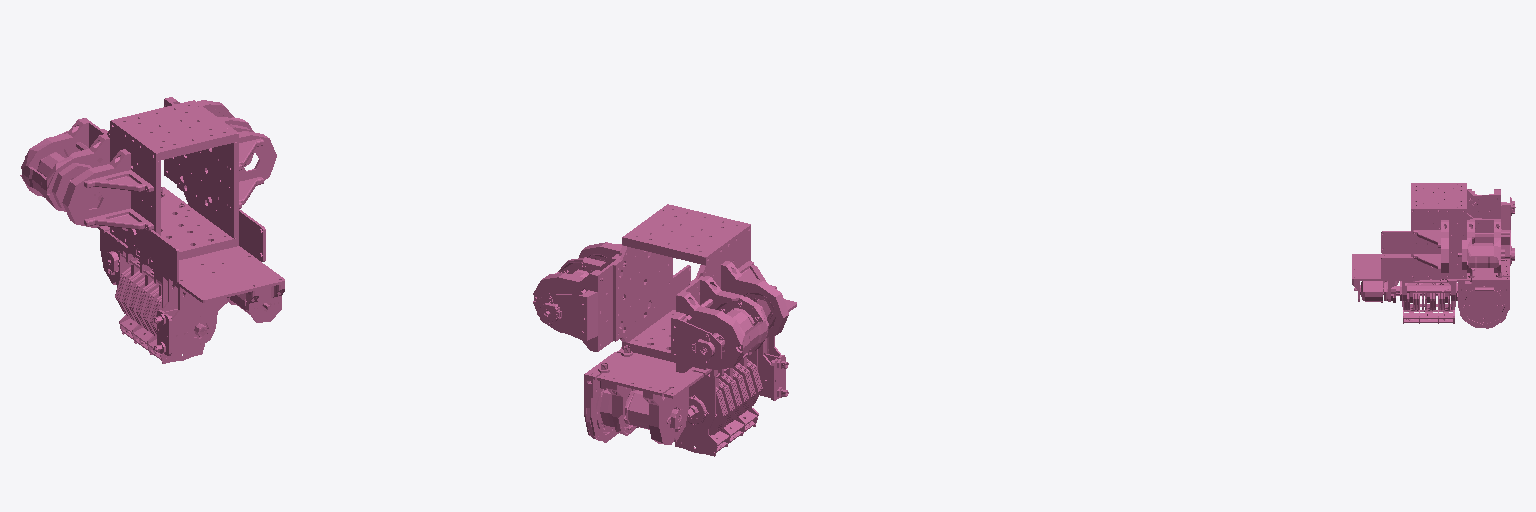
--- Facts derived from the render (not from the file) ---
3 views of the same robot in one strip: view 1: azimuth 30°, elevation 25°; view 2: azimuth 150°, elevation 25°; view 3: azimuth 270°, elevation 25° (orthographic).
Robot: dual_arm — 23 links, 22 joints (16 revolute, 6 fixed); root link map; default pose: all joints at 0.
Visible links, largest first — view 1: linear_rail_torso_base; view 2: linear_rail_torso_base; view 3: linear_rail_torso_base.
Boxes of the visible links, x1,y1,x2,y2 form: linear_rail_torso_base: [20, 97, 284, 363]; linear_rail_torso_base: [533, 204, 796, 456]; linear_rail_torso_base: [1352, 183, 1515, 328].
Bounding box of the posed robot: 400 × 1252 × 380 m (x, y, z).
Meshes: 18 distinct files referenced, 18 mesh visuals loaded (15 binary STL, 2 Collada DAE).

robot.urdf — dual_arm:
<?xml version="1.0" ?>
<!-- =================================================================================== -->
<!-- |    This document was autogenerated by xacro from [local-path]/moa/catkin_ws/src/moa_description/urdf/dual_arm.xacro | -->
<!-- |    EDITING THIS FILE BY HAND IS NOT RECOMMENDED                                 | -->
<!-- =================================================================================== -->
<robot name="dual_arm">
    <!-- <xacro:include filename="$(find moa_description)/urdf/right_hand.xacro"/>
    <xacro:include filename="$(find moa_description)/urdf/left_hand.xacro"/> -->
    <link name="map" />
    <!-- <link name="shoulder_bend2flex"> -->
    <link name="human/left_arm_mount" />
    <link name="human/left_arm_ref_frame">
        <visual>
            <geometry>
                <mesh filename="package://moa_description/mesh/visual_left/moa_shoulder_bend.stl" scale="0.001 0.001 0.001" />
            </geometry>
            <origin rpy="0 1.5707963267948966 0" xyz="0 0 0" />
        </visual>
        <collision>
            <geometry>
                <mesh filename="package://moa_description/mesh/visual_left/moa_shoulder_bend.stl" scale="0.001 0.001 0.001" />
            </geometry>
            <origin rpy="0 1.5707963267948966 0" xyz="0 0 0" />
        </collision>
        <inertial>
            <mass value="0.1" />
            <origin xyz="0 0 0" rpy="0 0 0" />
            <inertia ixx="0.03" iyy="0.03" izz="0.03" ixy="0.0" ixz="0.0" iyz="0.0" />
        </inertial>
    </link>
    <!-- <link name="shoulder_flex2abd"> -->
    <link name="human/left_arm_frame0">
        <visual>
            <geometry>
                <mesh filename="package://moa_description/mesh/visual_left/moa_shoulder_flex.stl" scale="0.001 0.001 0.001" />
            </geometry>
            <origin rpy="0 0 0" xyz="0 0 0" />
        </visual>
        <collision>
            <geometry>
                <mesh filename="package://moa_description/mesh/visual_left/moa_shoulder_flex.stl" scale="0.001 0.001 0.001" />
            </geometry>
            <origin rpy="0 0 0" xyz="0 0 0" />
        </collision>
        <inertial>
            <mass value="0.1" />
            <origin xyz="0 0 0" rpy="0 0 0" />
            <inertia ixx="0.03" iyy="0.03" izz="0.03" ixy="0.0" ixz="0.0" iyz="0.0" />
        </inertial>
    </link>
    <!-- <link name="shoulder_abd2rot"> -->
    <link name="human/left_arm_frame1">
        <visual>
            <geometry>
                <mesh filename="package://moa_description/mesh/visual_left/moa_shoulder_rot.stl" scale="0.001 0.001 0.001" />
            </geometry>
            <origin rpy="1.5707963267948966 0 0" xyz="0 0 0" />
        </visual>
        <collision>
            <geometry>
                <mesh filename="package://moa_description/mesh/visual_left/moa_shoulder_rot.stl" scale="0.001 0.001 0.001" />
            </geometry>
            <origin rpy="1.5707963267948966 0 0" xyz="0 0 0" />
        </collision>
        <inertial>
            <mass value="0.1" />
            <origin xyz="0 0 0" rpy="0 0 0" />
            <inertia ixx="0.03" iyy="0.03" izz="0.03" ixy="0.0" ixz="0.0" iyz="0.0" />
        </inertial>
    </link>
    <!-- <link name="shoulder_rot2elb"> -->
    <link name="human/left_arm_frame2">
        <visual>
            <geometry>
                <mesh filename="package://moa_description/mesh/visual_left/moa_elbow_base.stl" scale="0.001 0.001 0.001" />
            </geometry>
            <origin rpy="0 0 0" xyz="0 0 0" />
        </visual>
        <collision>
            <geometry>
                <mesh filename="package://moa_description/mesh/visual_left/moa_elbow_base.stl" scale="0.001 0.001 0.001" />
            </geometry>
            <origin rpy="0 0 0" xyz="0 0 0" />
        </collision>
        <inertial>
            <mass value="0.1" />
            <origin xyz="0 0 0" rpy="0 0 0" />
            <inertia ixx="0.03" iyy="0.03" izz="0.03" ixy="0.0" ixz="0.0" iyz="0.0" />
        </inertial>
    </link>
    <!-- <link name="elbow_flex2rot"> -->
    <link name="human/left_arm_frame3">
        <visual>
            <geometry>
                <mesh filename="package://moa_description/mesh/visual_left/moa_elbow_forearm.stl" scale="0.001 0.001 0.001" />
            </geometry>
            <origin rpy="0 0 0" xyz="0 0 0" />
        </visual>
        <collision>
            <geometry>
                <mesh filename="package://moa_description/mesh/visual_left/moa_elbow_forearm.stl" scale="0.001 0.001 0.001" />
            </geometry>
            <origin rpy="0 0 0" xyz="0 0 0" />
        </collision>
        <inertial>
            <mass value="0.1" />
            <origin xyz="0 0 0" rpy="0 0 0" />
            <inertia ixx="0.03" iyy="0.03" izz="0.03" ixy="0.0" ixz="0.0" iyz="0.0" />
        </inertial>
    </link>
    <!-- <link name="wrist_rot2flex"> -->
    <link name="human/left_arm_frame4">
        <visual>
            <geometry>
                <mesh filename="package://moa_description/mesh/visual_left/moa_forearm_base.stl" scale="0.001 0.001 0.001" />
            </geometry>
            <origin rpy="0 0 0" xyz="0 0 0" />
        </visual>
        <collision>
            <geometry>
                <mesh filename="package://moa_description/mesh/visual_left/moa_forearm_base.stl" scale="0.001 0.001 0.001" />
            </geometry>
            <origin rpy="0 0 0" xyz="0 0 0" />
        </collision>
        <inertial>
            <mass value="0.1" />
            <origin xyz="0 0 0" rpy="0 0 0" />
            <inertia ixx="0.03" iyy="0.03" izz="0.03" ixy="0.0" ixz="0.0" iyz="0.0" />
        </inertial>
    </link>
    <!-- <link name="wrist_flex2piv"> -->
    <link name="human/left_arm_frame5">
        <visual>
            <geometry>
                <mesh filename="package://moa_description/mesh/visual_left/moa_wrist_base.stl" scale="0.001 0.001 0.001" />
            </geometry>
            <origin rpy="0 0 0" xyz="0 0 0" />
        </visual>
        <collision>
            <geometry>
                <mesh filename="package://moa_description/mesh/visual_left/moa_wrist_base.stl" scale="0.001 0.001 0.001" />
            </geometry>
            <origin rpy="0 0 0" xyz="0 0 0" />
        </collision>
        <inertial>
            <mass value="0.1" />
            <origin xyz="0 0 0" rpy="0 0 0" />
            <inertia ixx="0.03" iyy="0.03" izz="0.03" ixy="0.0" ixz="0.0" iyz="0.0" />
        </inertial>
    </link>
    <!-- <link name="wrist_piv2hand"> -->
    <link name="human/left_arm_frame6">
        <visual>
            <geometry>
                <mesh filename="package://moa_description/mesh/visual_left/moa_hand_piv.stl" scale="0.001 0.001 0.001" />
            </geometry>
            <origin rpy="0 0 3.141592653589793" xyz="0 0 0" />
        </visual>
        <collision>
            <geometry>
                <mesh filename="package://moa_description/mesh/visual_left/moa_hand_piv.stl" scale="0.001 0.001 0.001" />
            </geometry>
            <origin rpy="0 0 3.141592653589793" xyz="0 0 0" />
        </collision>
        <inertial>
            <mass value="0.1" />
            <origin xyz="0 0 0" rpy="0 0 0" />
            <inertia ixx="0.03" iyy="0.03" izz="0.03" ixy="0.0" ixz="0.0" iyz="0.0" />
        </inertial>
    </link>
    <!-- <link name="human/left_arm_frame1"/>
    <link name="human/left_arm_frame2"/>

    <link name="human/left_arm_frame3"> -->
    <!-- <link name="human/left_hand_root"/> -->
    <!-- <link name="human/left_arm_frame4"/>
    <link name="human/left_arm_frame5"/>
    <link name="human/left_arm_frame6"/> -->
    <link name="human/left_arm_frame7" />
    <!-- <link name="human/left_index_finger_mcp"/>
    <link name="human/left_pinky_mcp"/>
    <link name="human/left_thumb">
      <visual>
        <origin rpy="0 0 0" xyz="0 0 0"/>
        <geometry>
          <box size="0.03 0.03 0.08"/>
        </geometry>
      </visual>
    </link> -->
    <!-- Joints -->
    <joint name="left_shoulder_ref_frame_joint" type="revolute">
        <origin rpy="0 -1.5707963267948966 0" xyz="0.15 0 0" />
        <parent link="human/left_arm_mount" />
        <child link="human/left_arm_ref_frame" />
        <limit effort="1" lower="-1.57079632679" upper="1.57079632679" velocity="1" />
    </joint>
    <!-- SHOULDER : spherical -->
    <!-- Let joint_X be the joint this transmission element is being added to: -->
    <joint name="left_shoulder_1_flex_exte" type="revolute">
        <origin rpy="0 1.5707963267948966 0" xyz="0.046 0 -0.18" />
        <!--origin rpy="0 ${pi/2} 0" xyz="0.18 0 0.046"/-->
        <axis xyz="-1 0 0" />
        <parent link="human/left_arm_ref_frame" />
        <child link="human/left_arm_frame0" />
        <limit effort="1" lower="-1.57079632679" upper="2.35619449019" velocity="1" />
    </joint>
    <joint name="left_shoulder_2_abdu_addu" type="revolute">
        <origin rpy="-1.5707963267948966 0 0" xyz="0.09 0 -0.05" />
        <axis xyz="0 0 -1" />
        <parent link="human/left_arm_frame0" />
        <child link="human/left_arm_frame1" />
        <limit effort="1" lower="-1.57079632679" upper="1.57079632679" velocity="1" />
    </joint>
    <joint name="left_shoulder_3_rotation" type="revolute">
        <origin rpy="1.5707963267948966 0 0" xyz="0 0.16 0" />
        <axis xyz="0 0 1" />
        <parent link="human/left_arm_frame1" />
        <child link="human/left_arm_frame2" />
        <limit effort="1" lower="-1.57079632679" upper="1.57079632679" velocity="1" />
    </joint>
    <!-- END SHOULDER -->
    <joint name="left_elbow_4_flex_exte" type="revolute">
        <origin rpy="0 0 0" xyz="0 -0.03 -0.228" />
        <axis xyz="-1 0 0" />
        <parent link="human/left_arm_frame2" />
        <child link="human/left_arm_frame3" />
        <limit effort="1" lower="0.0" upper="2.7925268" velocity="1" />
    </joint>
    <joint name="left_wrist_5_abdu_addu" type="revolute">
        <origin rpy="0 0 0" xyz="0 0 0" />
        <axis xyz="1 0 0" />
        <parent link="human/left_arm_frame5" />
        <child link="human/left_arm_frame6" />
        <limit effort="1" lower="-0.78539816339" upper="0.78539816339" velocity="1" />
    </joint>
    <joint name="left_wrist_6_flex_exte" type="revolute">
        <origin rpy="0 0 0" xyz="0 -0.003 -0.26389" />
        <axis xyz="0 1 0" />
        <parent link="human/left_arm_frame4" />
        <child link="human/left_arm_frame5" />
        <limit effort="1" lower="-1.57079632679" upper="1.57079632679" velocity="1" />
    </joint>
    <joint name="left_7_prona_supin" type="revolute">
        <origin rpy="0 0 3.141592653589793" xyz="0 0.03 -0.11951" />
        <axis xyz="0 0 1" />
        <parent link="human/left_arm_frame3" />
        <child link="human/left_arm_frame4" />
        <limit effort="1" lower="-1.5707963267948966" upper="1.5707963267948966" velocity="1" />
    </joint>
    <joint name="left_wrist_hand" type="fixed">
        <origin rpy="3.141592653589793 0 1.5707963267948966" xyz="0 0 0" />
        <parent link="human/left_arm_frame6" />
        <child link="human/left_arm_frame7" />
    </joint>
    <transmission name="left_shoulder_ref_frame_joint_trans">
        <type>transmission_interface/SimpleTransmission</type>
        <joint name="left_shoulder_ref_frame_joint">
            <hardwareInterface>hardware_interface/PositionJointInterface</hardwareInterface>
        </joint>
        <actuator name="left_shoulder_ref_frame_joint_motor">
            <mechanicalReduction>1</mechanicalReduction>
            <hardwareInterface>hardware_interface/PositionJointInterface</hardwareInterface>
        </actuator>
    </transmission>
    <transmission name="left_shoulder_1_flex_exte_trans">
        <type>transmission_interface/SimpleTransmission</type>
        <joint name="left_shoulder_1_flex_exte">
            <hardwareInterface>hardware_interface/PositionJointInterface</hardwareInterface>
        </joint>
        <actuator name="left_shoulder_1_flex_exte_motor">
            <mechanicalReduction>1</mechanicalReduction>
            <hardwareInterface>hardware_interface/PositionJointInterface</hardwareInterface>
        </actuator>
    </transmission>
    <transmission name="left_shoulder_2_abdu_addu_trans">
        <type>transmission_interface/SimpleTransmission</type>
        <joint name="left_shoulder_2_abdu_addu">
            <hardwareInterface>hardware_interface/PositionJointInterface</hardwareInterface>
        </joint>
        <actuator name="left_shoulder_2_abdu_addu_motor">
            <mechanicalReduction>1</mechanicalReduction>
            <hardwareInterface>hardware_interface/PositionJointInterface</hardwareInterface>
        </actuator>
    </transmission>
    <transmission name="left_shoulder_3_rotation_trans">
        <type>transmission_interface/SimpleTransmission</type>
        <joint name="left_shoulder_3_rotation">
            <hardwareInterface>hardware_interface/PositionJointInterface</hardwareInterface>
        </joint>
        <actuator name="left_shoulder_3_rotation_motor">
            <mechanicalReduction>1</mechanicalReduction>
            <hardwareInterface>hardware_interface/PositionJointInterface</hardwareInterface>
        </actuator>
    </transmission>
    <transmission name="left_elbow_4_flex_exte_trans">
        <type>transmission_interface/SimpleTransmission</type>
        <joint name="left_elbow_4_flex_exte">
            <hardwareInterface>hardware_interface/PositionJointInterface</hardwareInterface>
        </joint>
        <actuator name="left_elbow_4_flex_exte_motor">
            <mechanicalReduction>1</mechanicalReduction>
            <hardwareInterface>hardware_interface/PositionJointInterface</hardwareInterface>
        </actuator>
    </transmission>
    <transmission name="left_wrist_5_abdu_addu_trans">
        <type>transmission_interface/SimpleTransmission</type>
        <joint name="left_wrist_5_abdu_addu">
            <hardwareInterface>hardware_interface/PositionJointInterface</hardwareInterface>
        </joint>
        <actuator name="left_wrist_5_abdu_addu_motor">
            <mechanicalReduction>1</mechanicalReduction>
            <hardwareInterface>hardware_interface/PositionJointInterface</hardwareInterface>
        </actuator>
    </transmission>
    <transmission name="left_wrist_6_flex_exte_trans">
        <type>transmission_interface/SimpleTransmission</type>
        <joint name="left_wrist_6_flex_exte">
            <hardwareInterface>hardware_interface/PositionJointInterface</hardwareInterface>
        </joint>
        <actuator name="left_wrist_6_flex_exte_motor">
            <mechanicalReduction>1</mechanicalReduction>
            <hardwareInterface>hardware_interface/PositionJointInterface</hardwareInterface>
        </actuator>
    </transmission>
    <transmission name="left_7_prona_supin_trans">
        <type>transmission_interface/SimpleTransmission</type>
        <joint name="left_7_prona_supin">
            <hardwareInterface>hardware_interface/PositionJointInterface</hardwareInterface>
        </joint>
        <actuator name="left_7_prona_supin_motor">
            <mechanicalReduction>1</mechanicalReduction>
            <hardwareInterface>hardware_interface/PositionJointInterface</hardwareInterface>
        </actuator>
    </transmission>
    <link name="human/right_arm_ref_frame">
        <visual>
            <geometry>
                <mesh filename="package://moa_description/mesh/visual_right/moa_shoulder_bend.stl" scale="0.001 0.001 0.001" />
            </geometry>
            <origin rpy="0 -1.5707963267948966 0" xyz="0 0 0" />
        </visual>
        <collision>
            <geometry>
                <mesh filename="package://moa_description/mesh/visual_right/moa_shoulder_bend.stl" scale="0.001 0.001 0.001" />
            </geometry>
            <origin rpy="0 -1.5707963267948966 0" xyz="0 0 0" />
        </collision>
        <inertial>
            <mass value="0.1" />
            <origin xyz="0 0 0" rpy="0 0 0" />
            <inertia ixx="0.03" iyy="0.03" izz="0.03" ixy="0.0" ixz="0.0" iyz="0.0" />
        </inertial>
    </link>
    <!-- <link name="shoulder_flex2abd"> -->
    <link name="human/right_arm_frame0">
        <visual>
            <geometry>
                <mesh filename="package://moa_description/mesh/visual_right/moa_shoulder_flex.stl" scale="0.001 0.001 0.001" />
            </geometry>
            <origin rpy="0 0 0" xyz="0 0 0" />
        </visual>
        <collision>
            <geometry>
                <mesh filename="package://moa_description/mesh/visual_right/moa_shoulder_flex.stl" scale="0.001 0.001 0.001" />
            </geometry>
            <origin rpy="0 0 0" xyz="0 0 0" />
        </collision>
        <inertial>
            <mass value="0.1" />
            <origin xyz="0 0 0" rpy="0 0 0" />
            <inertia ixx="0.03" iyy="0.03" izz="0.03" ixy="0.0" ixz="0.0" iyz="0.0" />
        </inertial>
    </link>
    <!-- <link name="shoulder_abd2rot"> -->
    <link name="human/right_arm_frame1">
        <visual>
            <geometry>
                <mesh filename="package://moa_description/mesh/visual_right/moa_shoulder_rot.stl" scale="0.001 0.001 0.001" />
            </geometry>
            <origin rpy="1.5707963267948966 0 0" xyz="0 0 0" />
        </visual>
        <collision>
            <geometry>
                <mesh filename="package://moa_description/mesh/visual_right/moa_shoulder_rot.stl" scale="0.001 0.001 0.001" />
            </geometry>
            <origin rpy="1.5707963267948966 0 0" xyz="0 0 0" />
        </collision>
        <inertial>
            <mass value="0.1" />
            <origin xyz="0 0 0" rpy="0 0 0" />
            <inertia ixx="0.03" iyy="0.03" izz="0.03" ixy="0.0" ixz="0.0" iyz="0.0" />
        </inertial>
    </link>
    <!-- <link name="shoulder_rot2elb"> -->
    <link name="human/right_arm_frame2">
        <visual>
            <geometry>
                <mesh filename="package://moa_description/mesh/visual_right/moa_elbow_base.stl" scale="0.001 0.001 0.001" />
            </geometry>
            <origin rpy="0 0 0" xyz="0 0 0" />
        </visual>
        <collision>
            <geometry>
                <mesh filename="package://moa_description/mesh/visual_right/moa_elbow_base.stl" scale="0.001 0.001 0.001" />
            </geometry>
            <origin rpy="0 0 0" xyz="0 0 0" />
        </collision>
        <inertial>
            <mass value="0.1" />
            <origin xyz="0 0 0" rpy="0 0 0" />
            <inertia ixx="0.03" iyy="0.03" izz="0.03" ixy="0.0" ixz="0.0" iyz="0.0" />
        </inertial>
    </link>
    <!-- <link name="elbow_flex2rot"> -->
    <link name="human/right_arm_frame3">
        <visual>
            <geometry>
                <mesh filename="package://moa_description/mesh/visual_right/moa_elbow_forearm.stl" scale="0.001 0.001 0.001" />
            </geometry>
            <origin rpy="0 0 0" xyz="0 0 0" />
        </visual>
        <collision>
            <geometry>
                <mesh filename="package://moa_description/mesh/visual_right/moa_elbow_forearm.stl" scale="0.001 0.001 0.001" />
            </geometry>
            <origin rpy="0 0 0" xyz="0 0 0" />
        </collision>
        <inertial>
            <mass value="0.1" />
            <origin xyz="0 0 0" rpy="0 0 0" />
            <inertia ixx="0.03" iyy="0.03" izz="0.03" ixy="0.0" ixz="0.0" iyz="0.0" />
        </inertial>
    </link>
    <!-- <link name="wrist_rot2flex"> -->
    <link name="human/right_arm_frame4">
        <visual>
            <geometry>
                <mesh filename="package://moa_description/mesh/visual_right/moa_forearm_base.stl" scale="0.001 0.001 0.001" />
            </geometry>
            <origin rpy="0 0 0" xyz="0 0 0" />
        </visual>
        <collision>
            <geometry>
                <mesh filename="package://moa_description/mesh/visual_right/moa_forearm_base.stl" scale="0.001 0.001 0.001" />
            </geometry>
            <origin rpy="0 0 0" xyz="0 0 0" />
        </collision>
        <inertial>
            <mass value="0.1" />
            <origin xyz="0 0 0" rpy="0 0 0" />
            <inertia ixx="0.03" iyy="0.03" izz="0.03" ixy="0.0" ixz="0.0" iyz="0.0" />
        </inertial>
    </link>
    <!-- <link name="wrist_flex2piv"> -->
    <link name="human/right_arm_frame5">
        <visual>
            <geometry>
                <mesh filename="package://moa_description/mesh/visual_right/moa_wrist_base.stl" scale="0.001 0.001 0.001" />
            </geometry>
            <origin rpy="0 0 0" xyz="0 0 0" />
        </visual>
        <collision>
            <geometry>
                <mesh filename="package://moa_description/mesh/visual_right/moa_wrist_base.stl" scale="0.001 0.001 0.001" />
            </geometry>
            <origin rpy="0 0 0" xyz="0 0 0" />
        </collision>
        <inertial>
            <mass value="0.1" />
            <origin xyz="0 0 0" rpy="0 0 0" />
            <inertia ixx="0.03" iyy="0.03" izz="0.03" ixy="0.0" ixz="0.0" iyz="0.0" />
        </inertial>
    </link>
    <!-- <link name="wrist_piv2hand"> -->
    <link name="human/right_arm_frame6">
        <visual>
            <geometry>
                <mesh filename="package://moa_description/mesh/visual_right/moa_hand_piv.stl" scale="0.001 0.001 0.001" />
            </geometry>
            <origin rpy="0 0 3.141592653589793" xyz="0 0 0" />
        </visual>
        <collision>
            <geometry>
                <mesh filename="package://moa_description/mesh/visual_right/moa_hand_piv.stl" scale="0.001 0.001 0.001" />
            </geometry>
            <origin rpy="0 0 3.141592653589793" xyz="0 0 0" />
        </collision>
        <inertial>
            <mass value="0.1" />
            <origin xyz="0 0 0" rpy="0 0 0" />
            <inertia ixx="0.03" iyy="0.03" izz="0.03" ixy="0.0" ixz="0.0" iyz="0.0" />
        </inertial>
    </link>
    <link name="human/right_arm_mount" />
    <link name="human/right_arm_frame7" />
    <!-- <link name="human/right_index_finger_mcp"/>
    <link name="human/right_pinky_mcp"/>
    <link name="human/right_thumb">
      <visual>
        <origin rpy="0 0 0" xyz="0 0 0"/>
        <geometry>
          <box size="0.03 0.03 0.08"/>
        </geometry>
      </visual>
    </link> -->
    <!-- Joints -->
    <joint name="right_shoulder_ref_frame_joint" type="revolute">
        <origin rpy="0 1.5707963267948966 0" xyz="-0.15 0 0" />
        <parent link="human/right_arm_mount" />
        <child link="human/right_arm_ref_frame" />
        <limit effort="1" lower="-1.57079632679" upper="1.57079632679" velocity="1" />
    </joint>
    <!-- SHOULDER : spherical -->
    <joint name="right_shoulder_1_flex_exte" type="revolute">
        <origin rpy="0 -1.5707963267948966 0" xyz="-0.046 0 -0.18" />
        <axis xyz="-1 0 0" />
        <parent link="human/right_arm_ref_frame" />
        <child link="human/right_arm_frame0" />
        <limit effort="1" lower="-1.57079632679" upper="2.35619449019" velocity="1" />
    </joint>
    <joint name="right_shoulder_2_abdu_addu" type="revolute">
        <origin rpy="-1.5707963267948966 0 0" xyz="-0.09 0 -0.05" />
        <axis xyz="0 0 1" />
        <parent link="human/right_arm_frame0" />
        <child link="human/right_arm_frame1" />
        <limit effort="1" lower="-1.57079632679" upper="1.57079632679" velocity="1" />
    </joint>
    <joint name="right_shoulder_3_rotation" type="revolute">
        <origin rpy="1.5707963267948966 0 0" xyz="0 0.16 0" />
        <axis xyz="0 0 1" />
        <parent link="human/right_arm_frame1" />
        <child link="human/right_arm_frame2" />
        <limit effort="1" lower="-1.57079632679" upper="1.57079632679" velocity="1" />
    </joint>
    <!-- END SHOULDER -->
    <joint name="right_elbow_4_flex_exte" type="revolute">
        <origin rpy="0 0 0" xyz="0 -0.03 -0.228" />
        <axis xyz="-1 0 0" />
        <parent link="human/right_arm_frame2" />
        <child link="human/right_arm_frame3" />
        <limit effort="1" lower="0.0" upper="2.7925268" velocity="1" />
    </joint>
    <joint name="right_wrist_5_abdu_addu" type="revolute">
        <origin rpy="0 0 0" xyz="0 0 0" />
        <axis xyz="1 0 0" />
        <parent link="human/right_arm_frame5" />
        <child link="human/right_arm_frame6" />
        <limit effort="1" lower="-0.78539816339" upper="0.78539816339" velocity="1" />
    </joint>
    <joint name="right_wrist_6_flex_exte" type="revolute">
        <origin rpy="0 0 0" xyz="0 -0.003 -0.26389" />
        <axis xyz="0 1 0" />
        <parent link="human/right_arm_frame4" />
        <child link="human/right_arm_frame5" />
        <limit effort="1" lower="-1.57079632679" upper="1.57079632679" velocity="1" />
    </joint>
    <joint name="right_7_prona_supin" type="revolute">
        <origin rpy="0 0 3.141592653589793" xyz="0 0.03 -0.11951" />
        <axis xyz="0 0 -1" />
        <parent link="human/right_arm_frame3" />
        <child link="human/right_arm_frame4" />
        <limit effort="1" lower="-1.5707963267948966" upper="1.5707963267948966" velocity="1" />
    </joint>
    <joint name="right_wrist_hand" type="fixed">
        <origin rpy="3.141592653589793 0 1.5707963267948966" xyz="0 0 0" />
        <parent link="human/right_arm_frame6" />
        <child link="human/right_arm_frame7" />
    </joint>
    <!-- <joint name="right_hand_wirst_to_arm" type="fixed">
      <origin rpy="0 0 ${pi}" xyz="0 0 0"/>
      <parent link="human/right_arm_frame7"/>
      <child link="human/right_hand_mount"/>
    </joint> -->
    <transmission name="right_shoulder_ref_frame_joint_trans">
        <type>transmission_interface/SimpleTransmission</type>
        <joint name="right_shoulder_ref_frame_joint">
            <hardwareInterface>hardware_interface/PositionJointInterface</hardwareInterface>
        </joint>
        <actuator name="right_shoulder_ref_frame_joint_motor">
            <mechanicalReduction>1</mechanicalReduction>
            <hardwareInterface>hardware_interface/PositionJointInterface</hardwareInterface>
        </actuator>
    </transmission>
    <transmission name="right_shoulder_1_flex_exte_trans">
        <type>transmission_interface/SimpleTransmission</type>
        <joint name="right_shoulder_1_flex_exte">
            <hardwareInterface>hardware_interface/PositionJointInterface</hardwareInterface>
        </joint>
        <actuator name="right_shoulder_1_flex_exte_motor">
            <mechanicalReduction>1</mechanicalReduction>
            <hardwareInterface>hardware_interface/PositionJointInterface</hardwareInterface>
        </actuator>
    </transmission>
    <transmission name="right_shoulder_2_abdu_addu_trans">
        <type>transmission_interface/SimpleTransmission</type>
        <joint name="right_shoulder_2_abdu_addu">
            <hardwareInterface>hardware_interface/PositionJointInterface</hardwareInterface>
        </joint>
        <actuator name="right_shoulder_2_abdu_addu_motor">
            <mechanicalReduction>1</mechanicalReduction>
            <hardwareInterface>hardware_interface/PositionJointInterface</hardwareInterface>
        </actuator>
    </transmission>
    <transmission name="right_shoulder_3_rotation_trans">
        <type>transmission_interface/SimpleTransmission</type>
        <joint name="right_shoulder_3_rotation">
            <hardwareInterface>hardware_interface/PositionJointInterface</hardwareInterface>
        </joint>
        <actuator name="right_shoulder_3_rotation_motor">
            <mechanicalReduction>1</mechanicalReduction>
            <hardwareInterface>hardware_interface/PositionJointInterface</hardwareInterface>
        </actuator>
    </transmission>
    <transmission name="right_elbow_4_flex_exte_trans">
        <type>transmission_interface/SimpleTransmission</type>
        <joint name="right_elbow_4_flex_exte">
            <hardwareInterface>hardware_interface/PositionJointInterface</hardwareInterface>
        </joint>
        <actuator name="right_elbow_4_flex_exte_motor">
            <mechanicalReduction>1</mechanicalReduction>
            <hardwareInterface>hardware_interface/PositionJointInterface</hardwareInterface>
        </actuator>
    </transmission>
    <transmission name="right_wrist_5_abdu_addu_trans">
        <type>transmission_interface/SimpleTransmission</type>
        <joint name="right_wrist_5_abdu_addu">
            <hardwareInterface>hardware_interface/PositionJointInterface</hardwareInterface>
        </joint>
        <actuator name="right_wrist_5_abdu_addu_motor">
            <mechanicalReduction>1</mechanicalReduction>
            <hardwareInterface>hardware_interface/PositionJointInterface</hardwareInterface>
        </actuator>
    </transmission>
    <transmission name="right_wrist_6_flex_exte_trans">
        <type>transmission_interface/SimpleTransmission</type>
        <joint name="right_wrist_6_flex_exte">
            <hardwareInterface>hardware_interface/PositionJointInterface</hardwareInterface>
        </joint>
        <actuator name="right_wrist_6_flex_exte_motor">
            <mechanicalReduction>1</mechanicalReduction>
            <hardwareInterface>hardware_interface/PositionJointInterface</hardwareInterface>
        </actuator>
    </transmission>
    <transmission name="right_7_prona_supin_trans">
        <type>transmission_interface/SimpleTransmission</type>
        <joint name="right_7_prona_supin">
            <hardwareInterface>hardware_interface/PositionJointInterface</hardwareInterface>
        </joint>
        <actuator name="right_7_prona_supin_motor">
            <mechanicalReduction>1</mechanicalReduction>
            <hardwareInterface>hardware_interface/PositionJointInterface</hardwareInterface>
        </actuator>
    </transmission>
    <link name="linear_rail_base">
        <visual>
            <geometry>
                <mesh filename="package://moa_description/mesh/visual/moa_torso_rails.dae" scale="0.001 0.001 0.001" />
            </geometry>
            <origin rpy="1.5707963267948966 0 0" xyz="0 0 -1.109" />
        </visual>
    </link>
    <link name="linear_rail_torso_base">
        <visual>
            <geometry>
                <mesh filename="package://moa_description/mesh/visual/moa_torso_base.dae" />
            </geometry>
            <origin rpy="0 0 0" xyz="0 0 0" />
        </visual>
    </link>
    <joint name="root_map_link" type="fixed">
        <origin rpy="0 0 0" xyz="0 0 0" />
        <parent link="map" />
        <child link="linear_rail_base" />
    </joint>
    <joint name="rail_torso_link" type="fixed">
        <origin rpy="0 0 0" xyz="0 0 0" />
        <parent link="linear_rail_base" />
        <child link="linear_rail_torso_base" />
    </joint>
    <joint name="left_to_map_link" type="fixed">
        <origin rpy="0 0 0" xyz="0 0 0" />
        <parent link="linear_rail_torso_base" />
        <child link="human/left_arm_mount" />
    </joint>
    <!-- <joint name="left_to_map_link" type="fixed">
      <origin rpy="0 0 0" xyz="0.25 0 0"/>
      <parent link="map"/>
      <child link="human/left_arm_mount"/>
    </joint> -->
    <!-- <joint name="right_to_map_link" type="fixed">
      <origin rpy="0 0 0" xyz="-0.25 0 0"/>
      <parent link="map"/>
      <child link="human/right_arm_mount"/>
    </joint> -->
    <joint name="right_to_map_link" type="fixed">
        <origin rpy="0 0 0" xyz="0 0 0" />
        <parent link="map" />
        <child link="human/right_arm_mount" />
    </joint>
    <!-- Uncomment after adding hand -->
    <!-- <joint name="left_hand_wirst_to_arm" type="fixed">
      <origin rpy="0 0 ${pi}" xyz="0 0 0"/>
      <parent link="human/left_arm_frame7"/>
      <child link="human/left_hand_mount"/>
    </joint>

    <joint name="right_hand_wirst_to_arm" type="fixed">
      <origin rpy="0 0 0" xyz="0 0 0"/>
      <parent link="human/right_arm_frame7"/>
      <child link="human/right_hand_mount"/>
    </joint>  -->
    <gazebo>
        <plugin name="gazebo_ros_control">
            <robotNamespace>/</robotNamespace>
        </plugin>
    </gazebo>
</robot>
